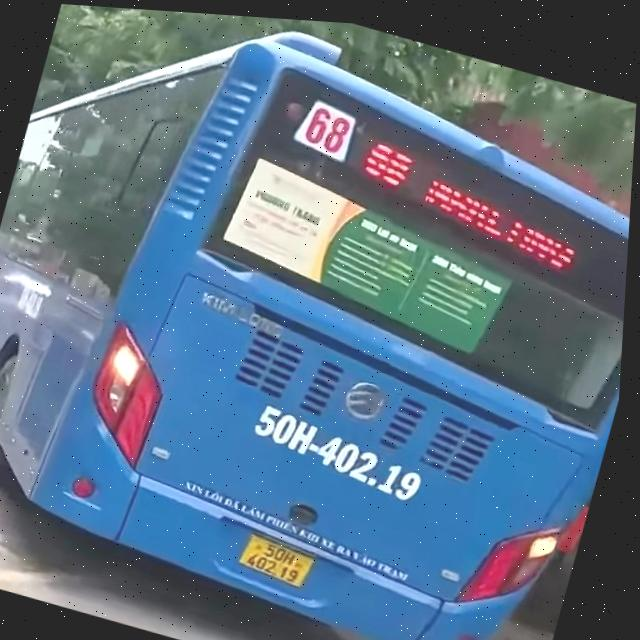car: (0, 0, 640, 640)
plate: (224, 517, 325, 598)
